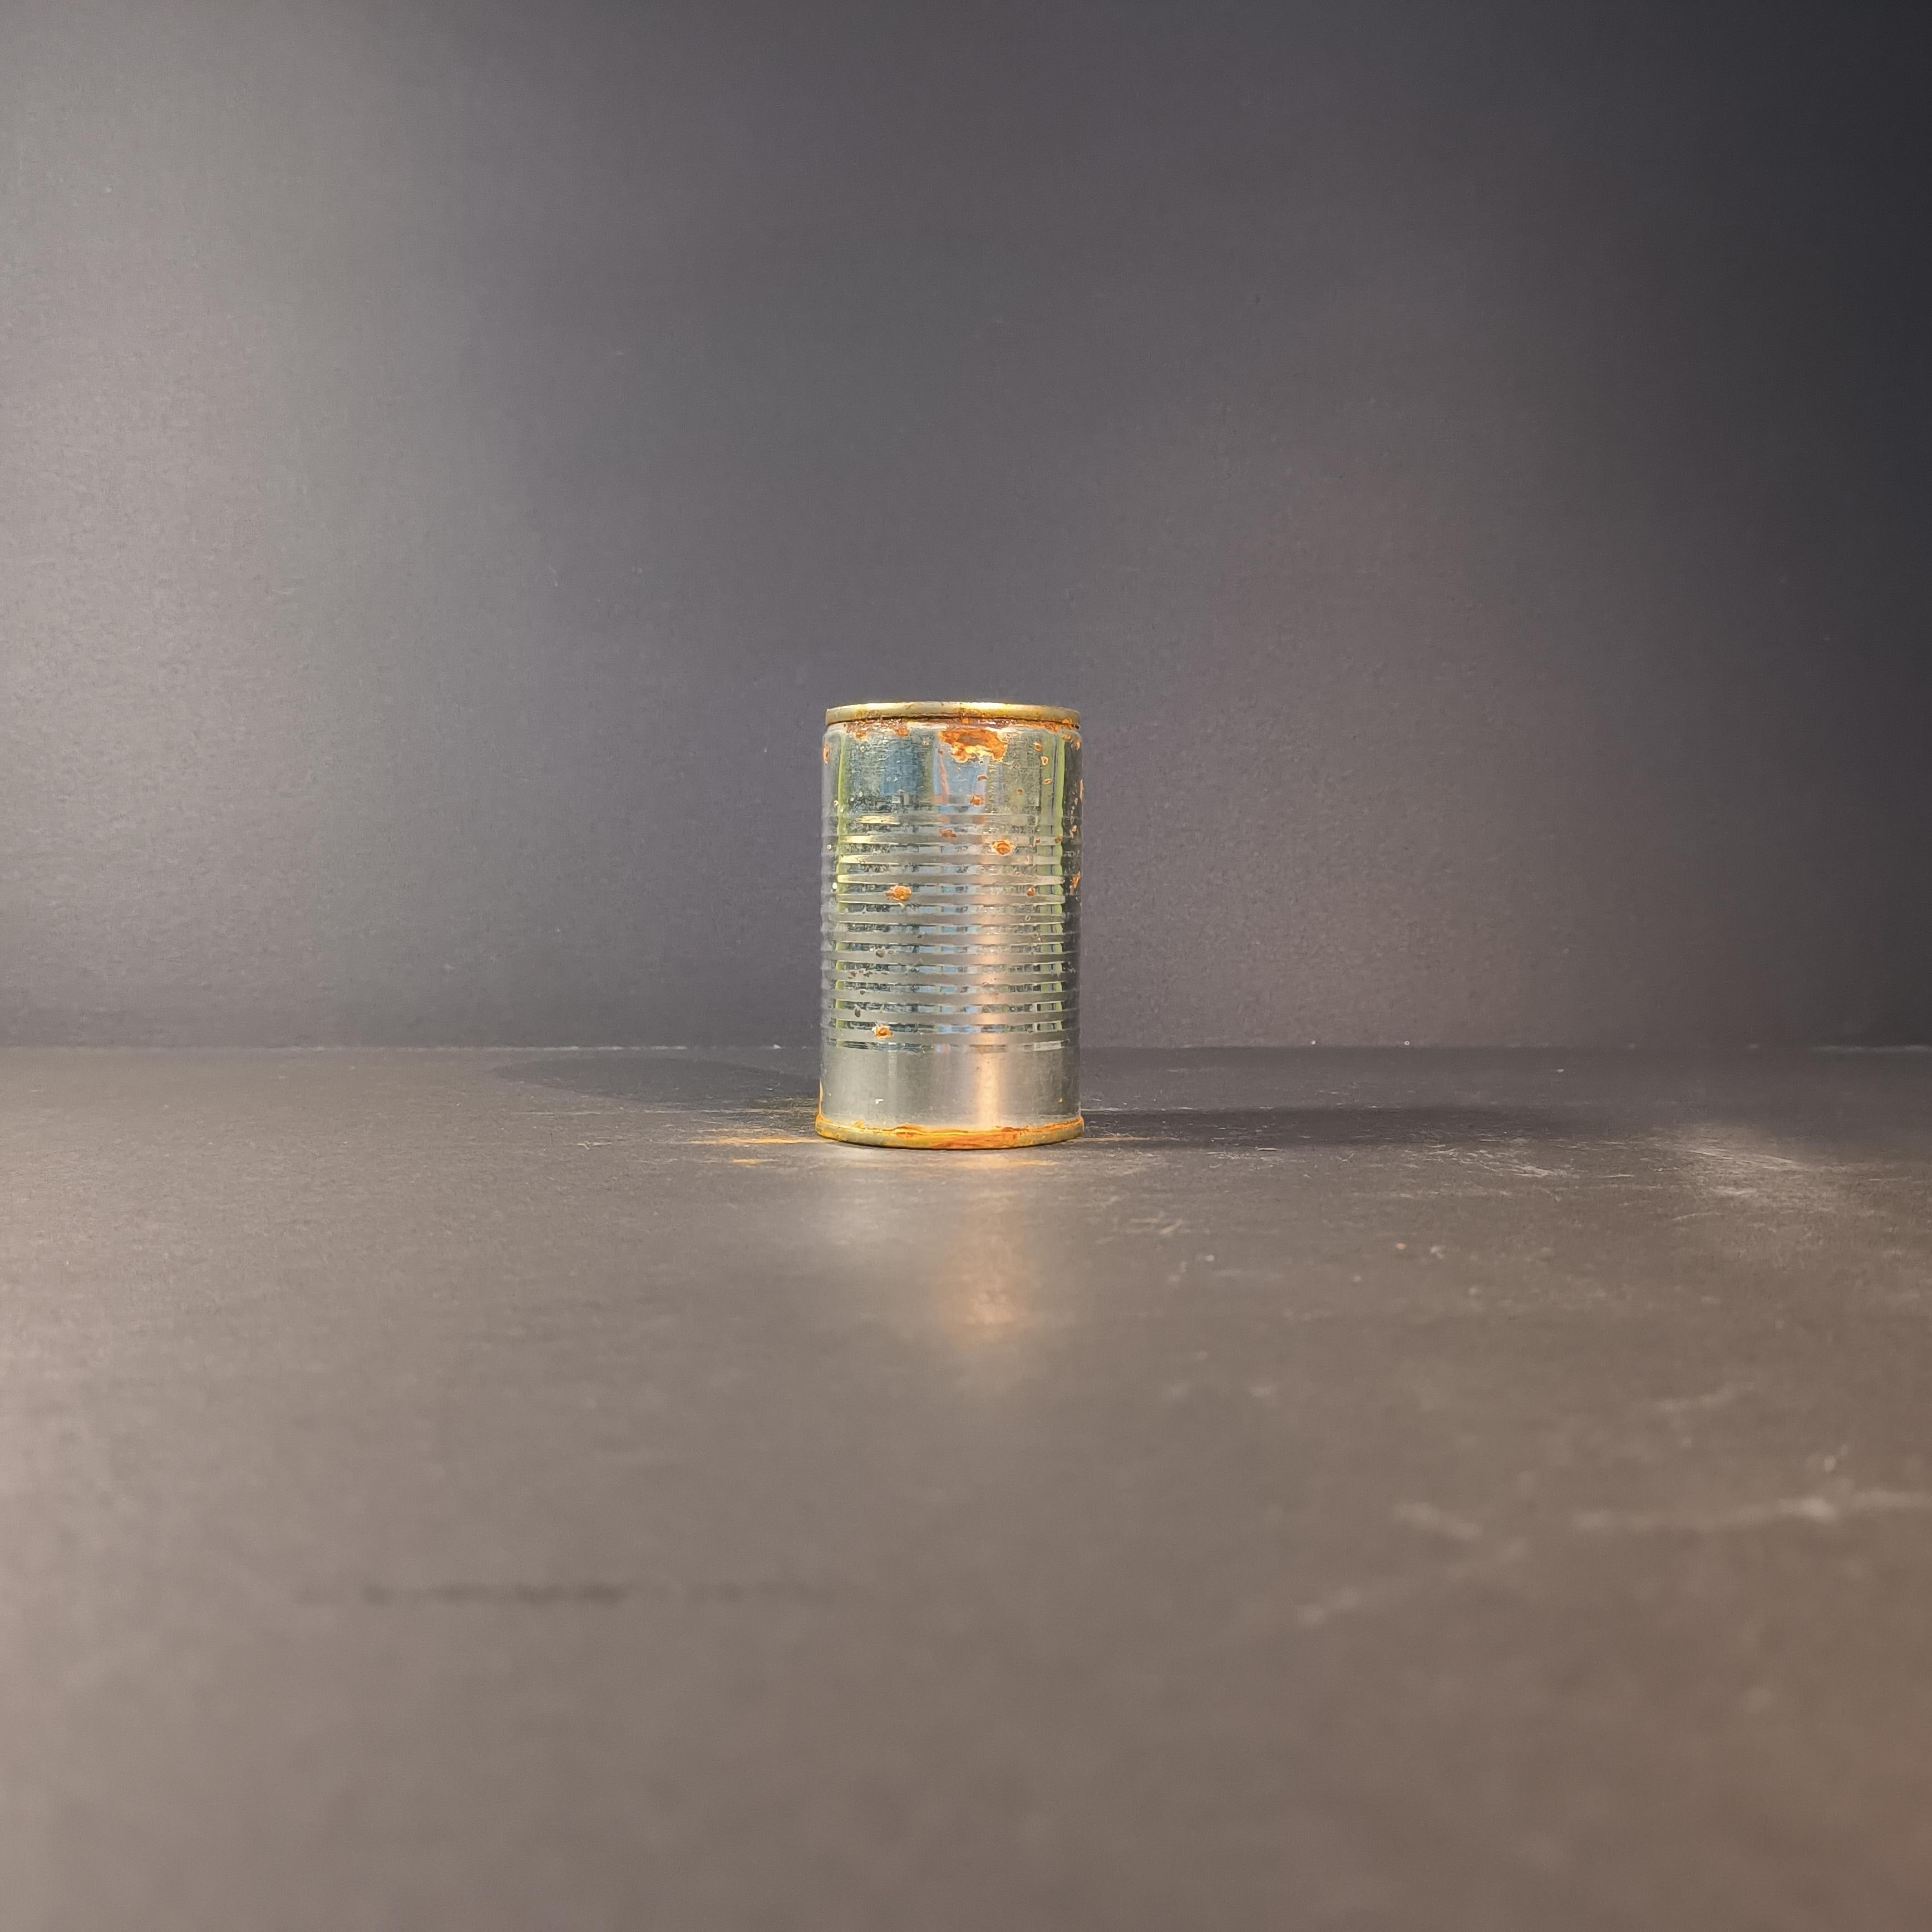Rusted: (796, 674, 1108, 1162)
